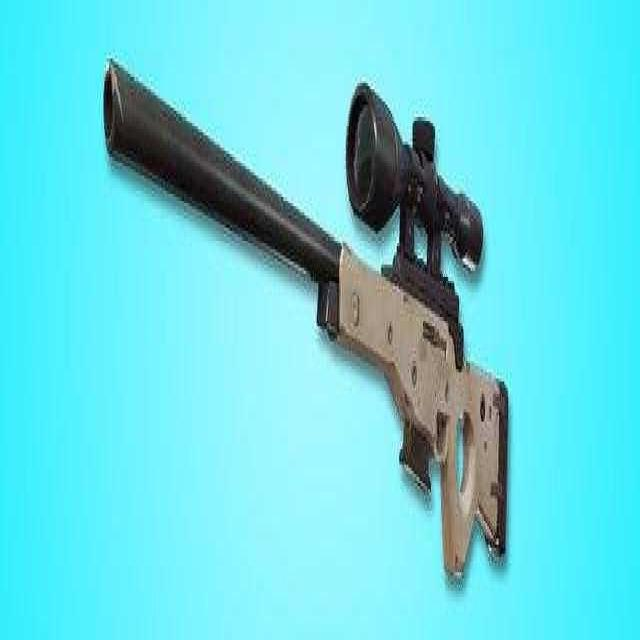heavyweapon: (84, 1, 524, 623)
